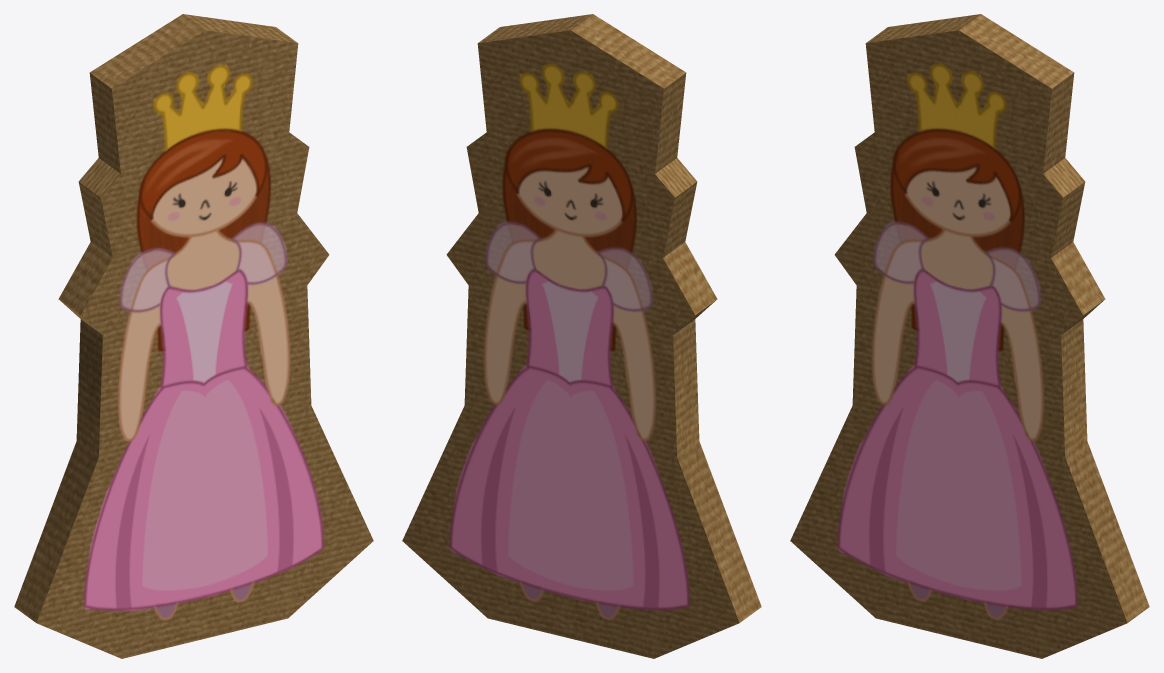
File: Char_Princess_Izis.fbx
3 views of the same model, side by side, from view 1: azimuth 30°, elevation 25°; view 2: azimuth 150°, elevation 25°; view 3: azimuth 330°, elevation 25° (orthographic).
Visible parts, largest first — view 1: Princess_Izis; view 2: Princess_Izis; view 3: Princess_Izis.
Part boxes in pixels (box(x1,y1,x2,y2)): Princess_Izis: box(14, 14, 373, 658); Princess_Izis: box(402, 14, 761, 658); Princess_Izis: box(790, 14, 1149, 658).
Bounding box in the file's own units: 0.487 × 0.8393 × 0.0556.
